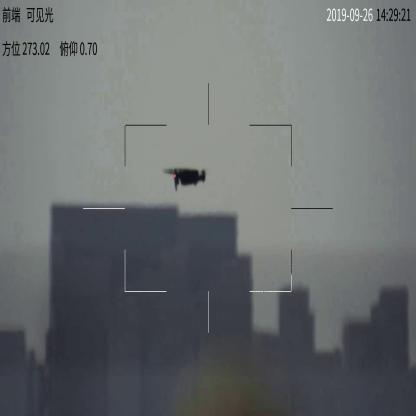uav: (168, 165, 218, 192)
